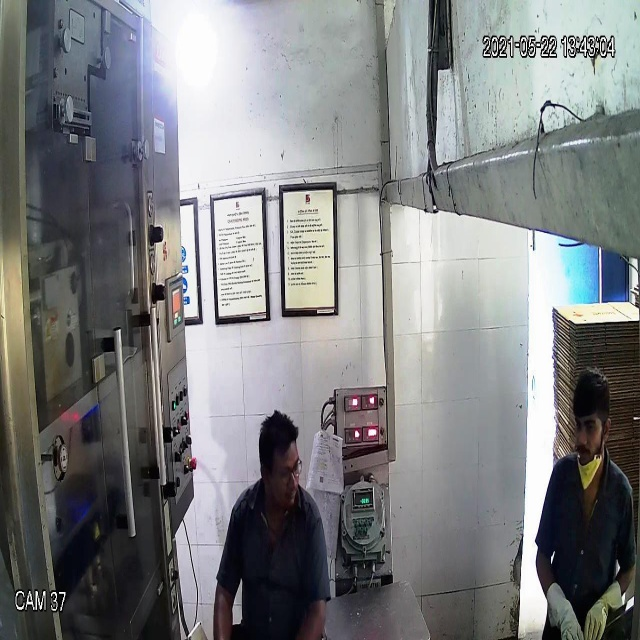Gafas: (252, 447, 305, 485)
Sin_gafas: (570, 407, 609, 441)
